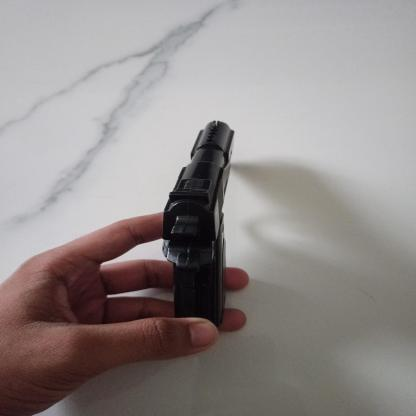handgun: (164, 119, 237, 329)
